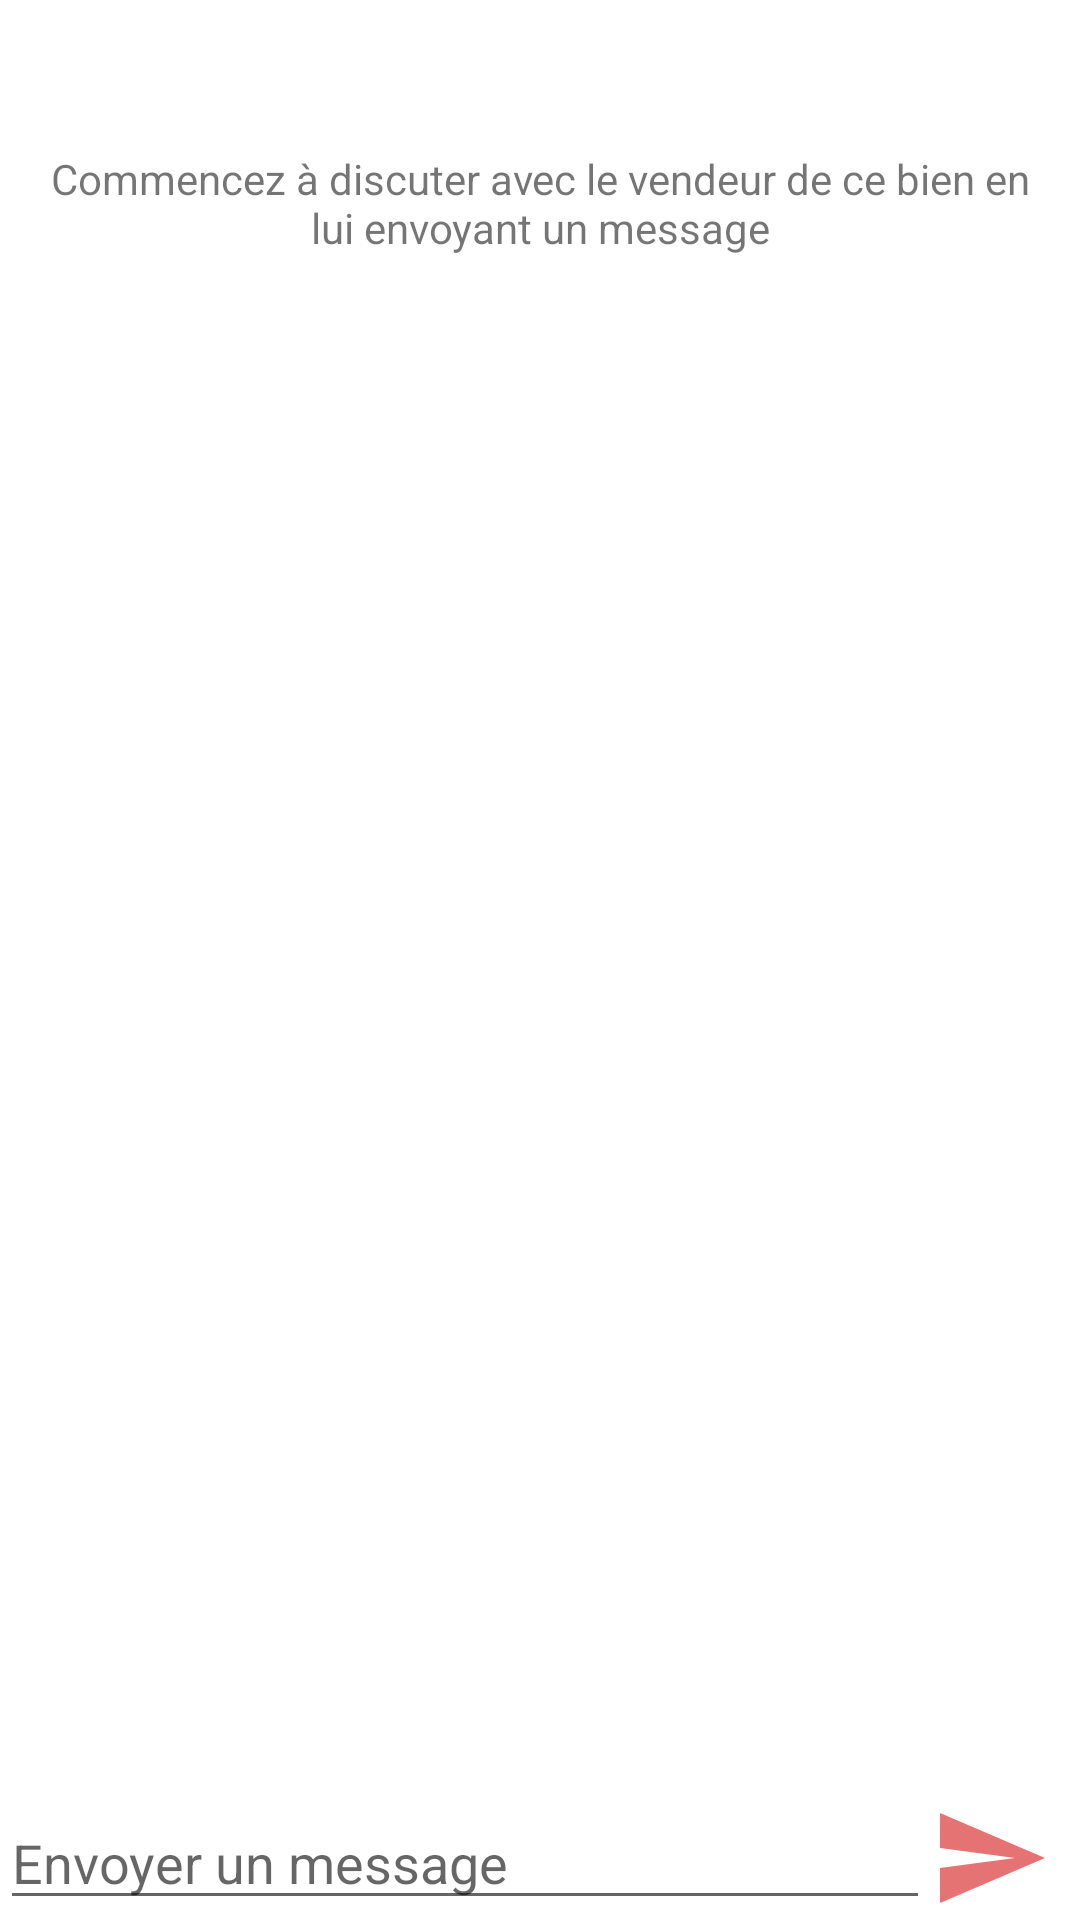

Icons on this 1080w x 1920h Android screen, each with the point to tap as (x,y):
send: (992,1858)
